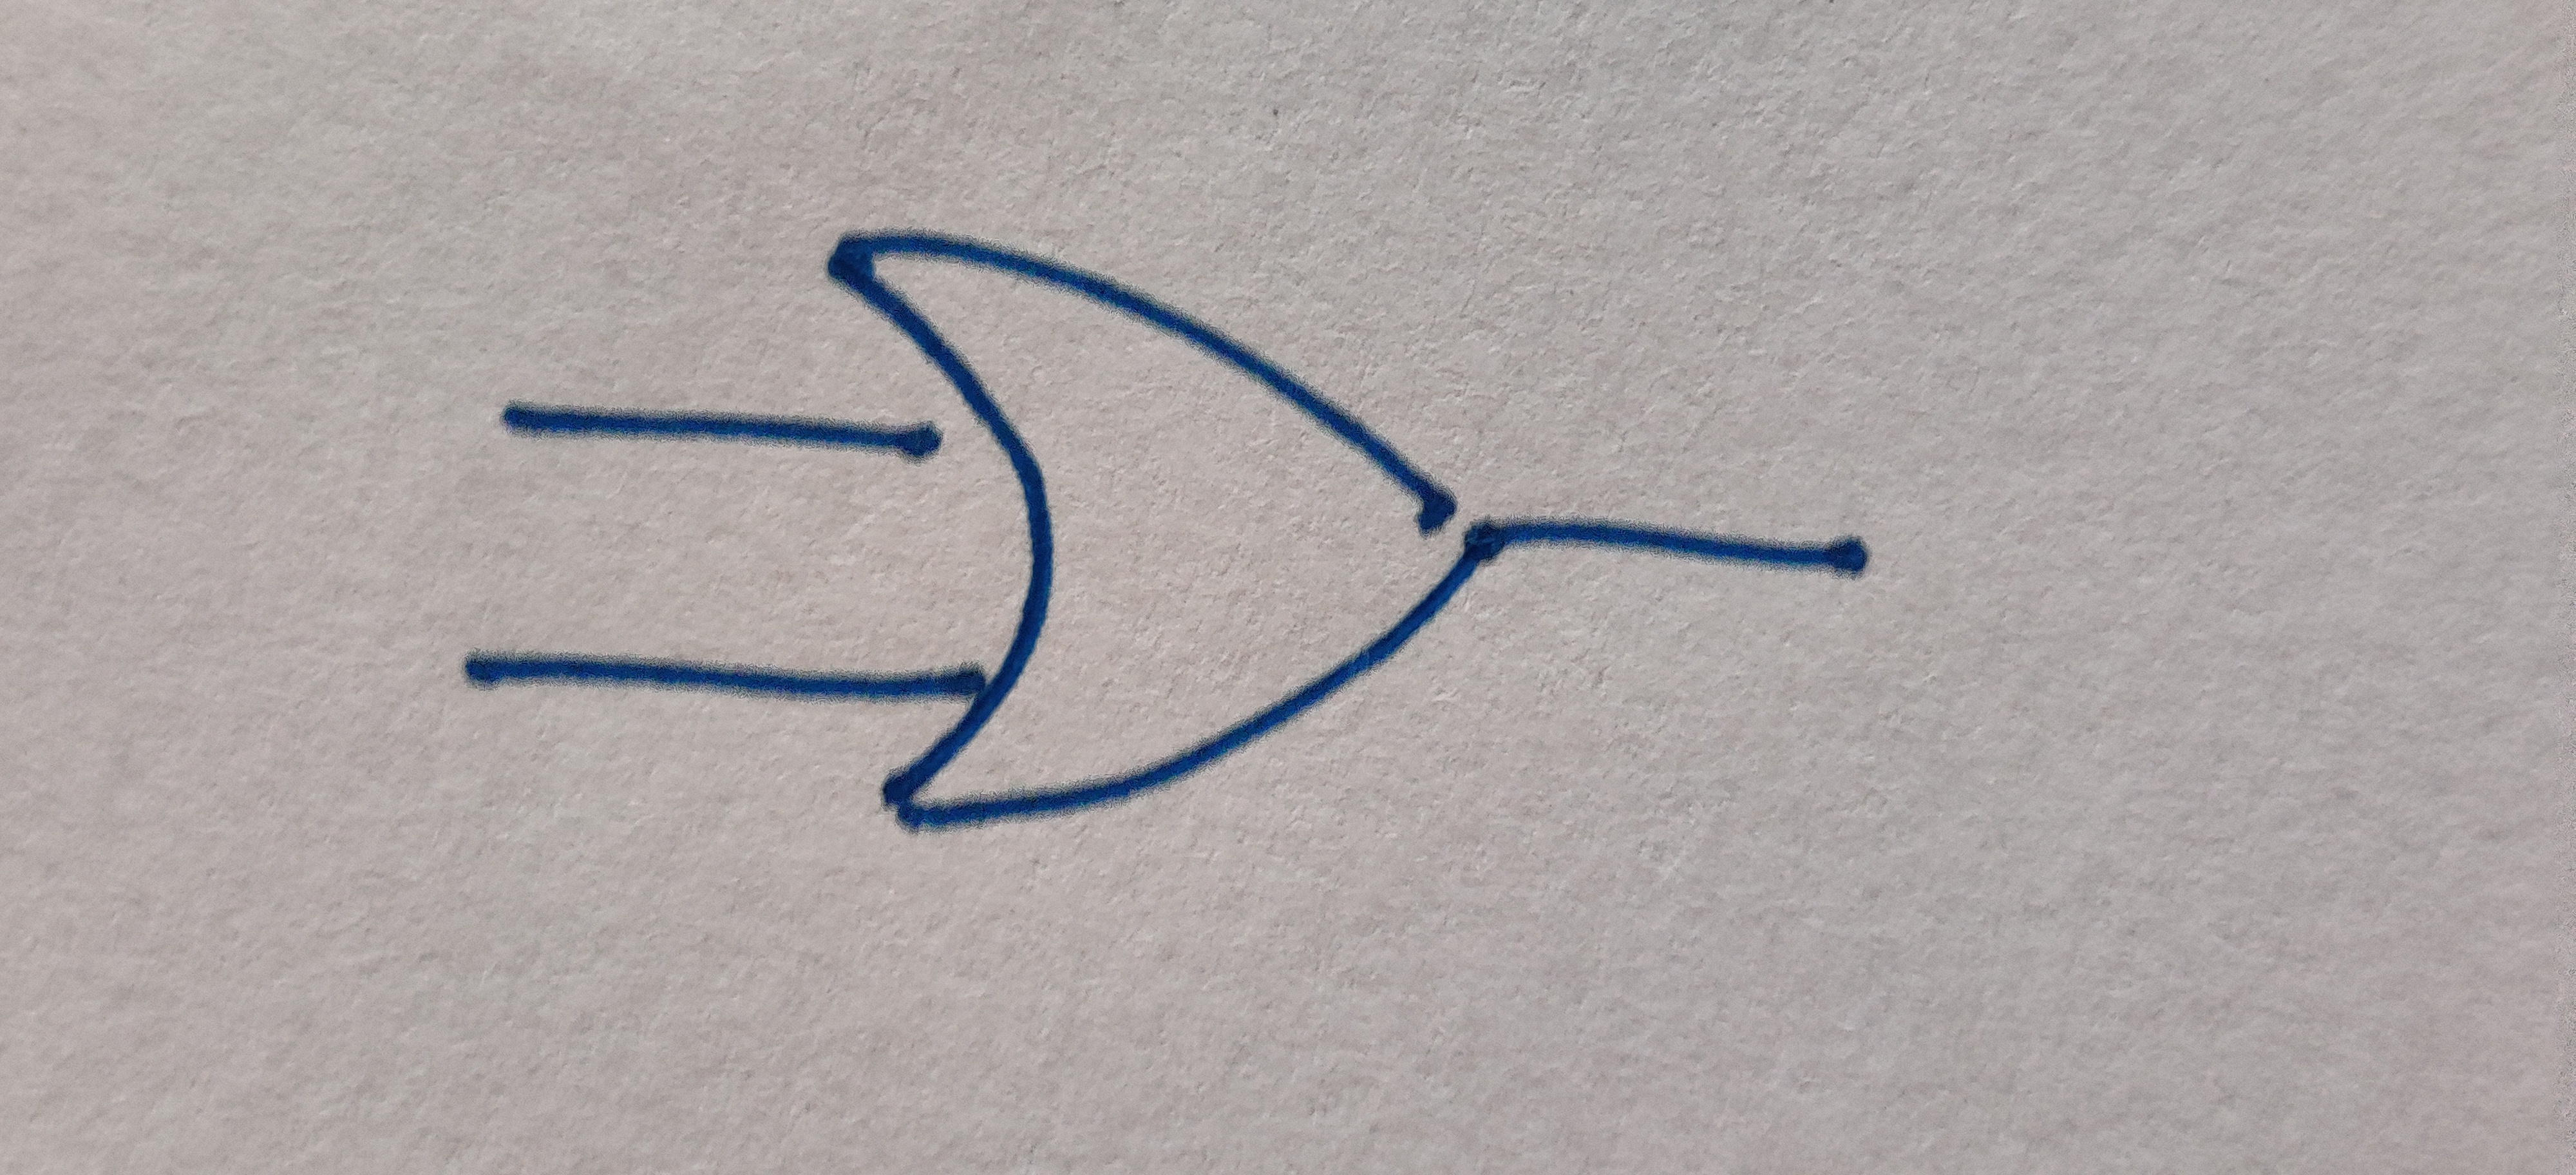or: (831, 228, 1485, 817)
